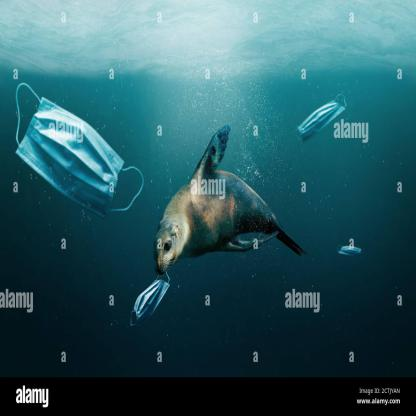waste: (15, 83, 144, 222), (296, 91, 346, 148), (133, 272, 170, 322), (336, 244, 364, 258)
